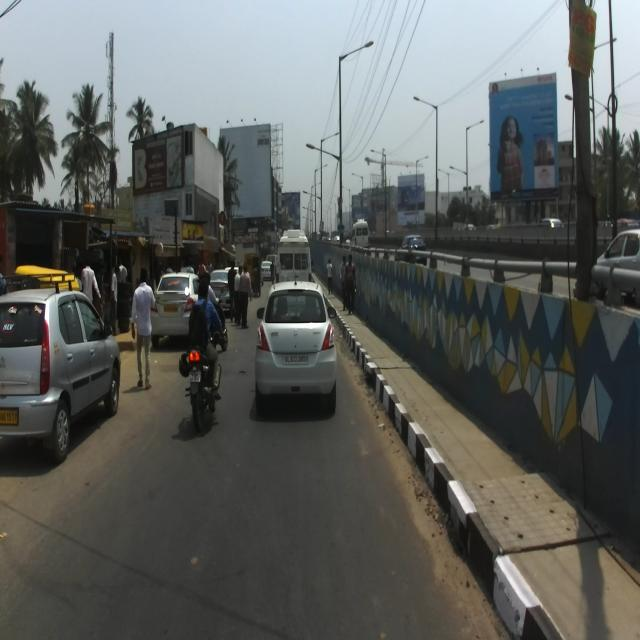Car_Maruti-Suzuki: (254, 271, 336, 415), (149, 270, 206, 348)
Car_TATA: (0, 271, 120, 460)
motorcycle_TVS: (178, 324, 226, 430)
